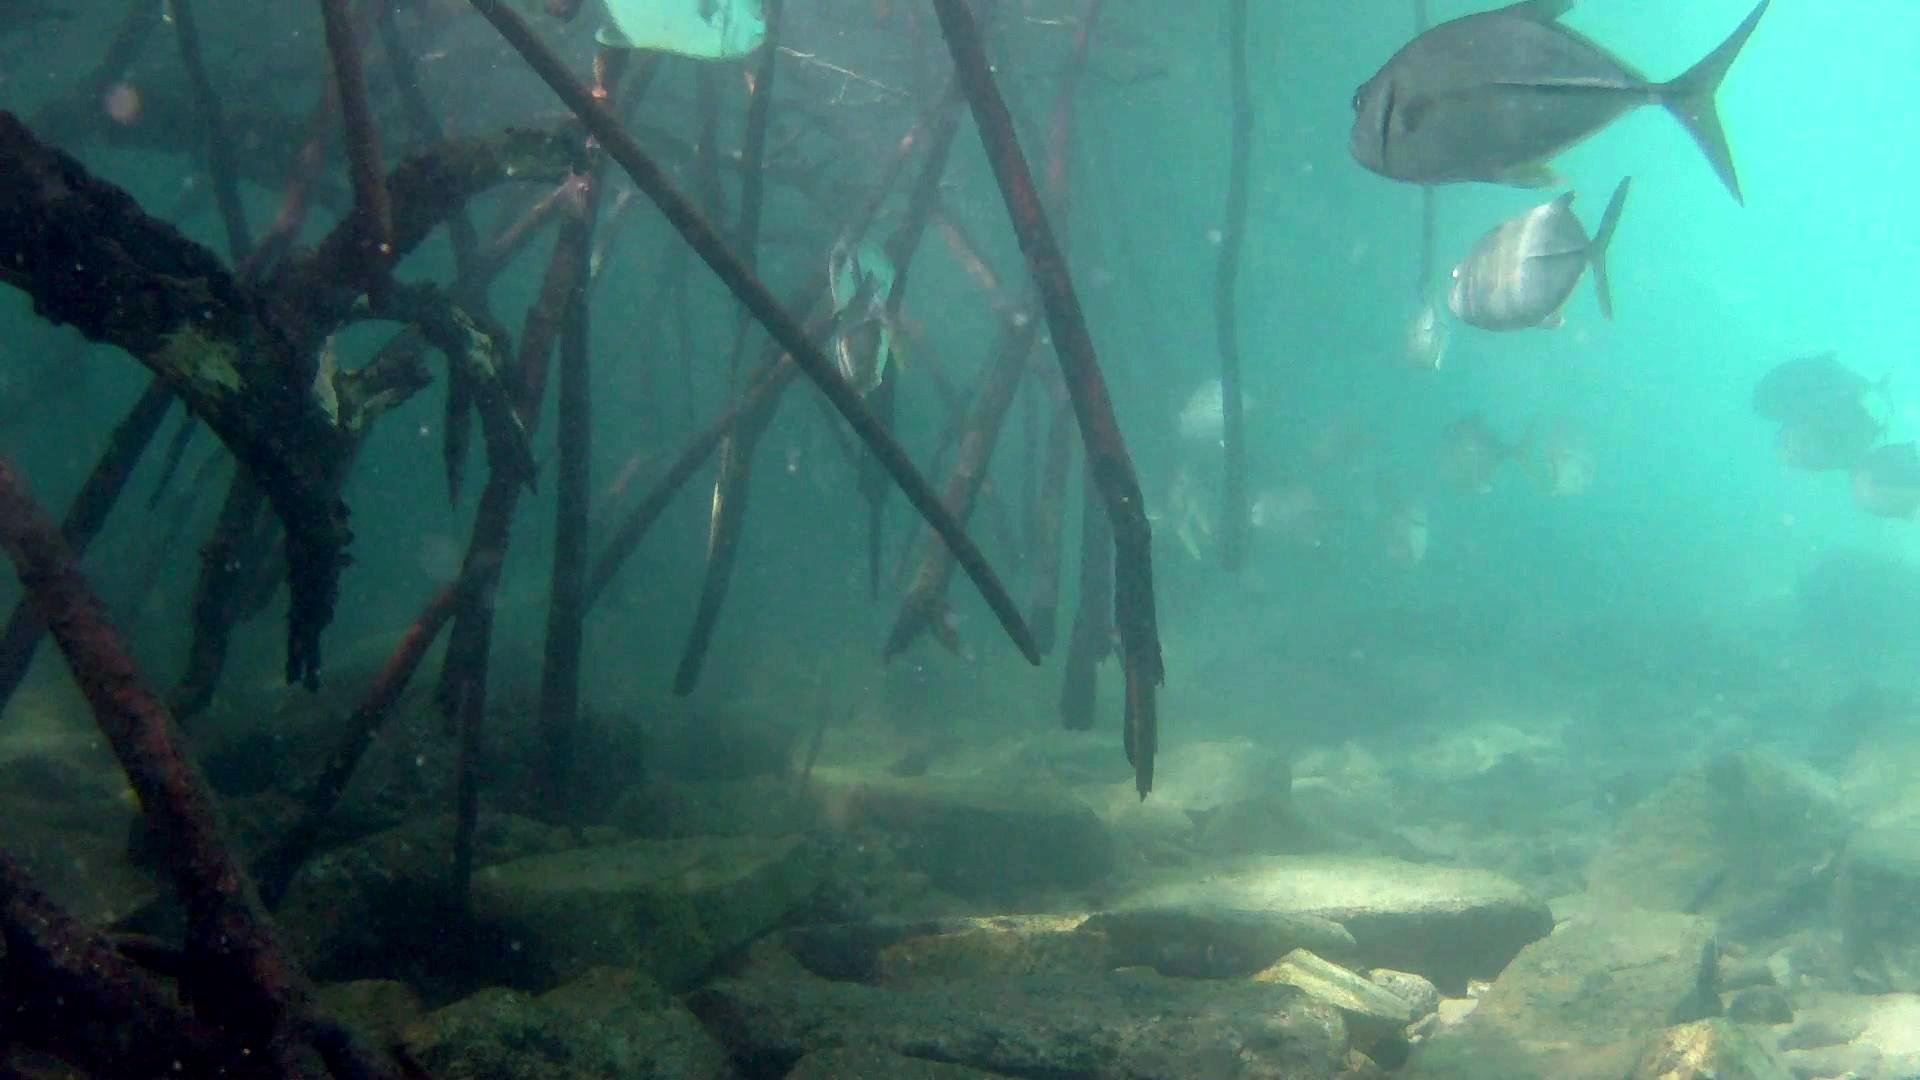caranx: (1337, 3, 1770, 217), (1423, 168, 1639, 334), (585, 3, 787, 63)
